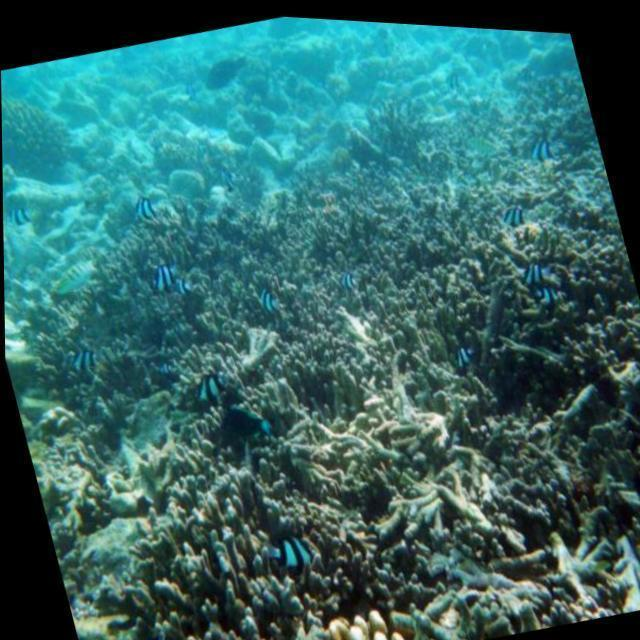Dead Coral: (1, 119, 640, 640)
